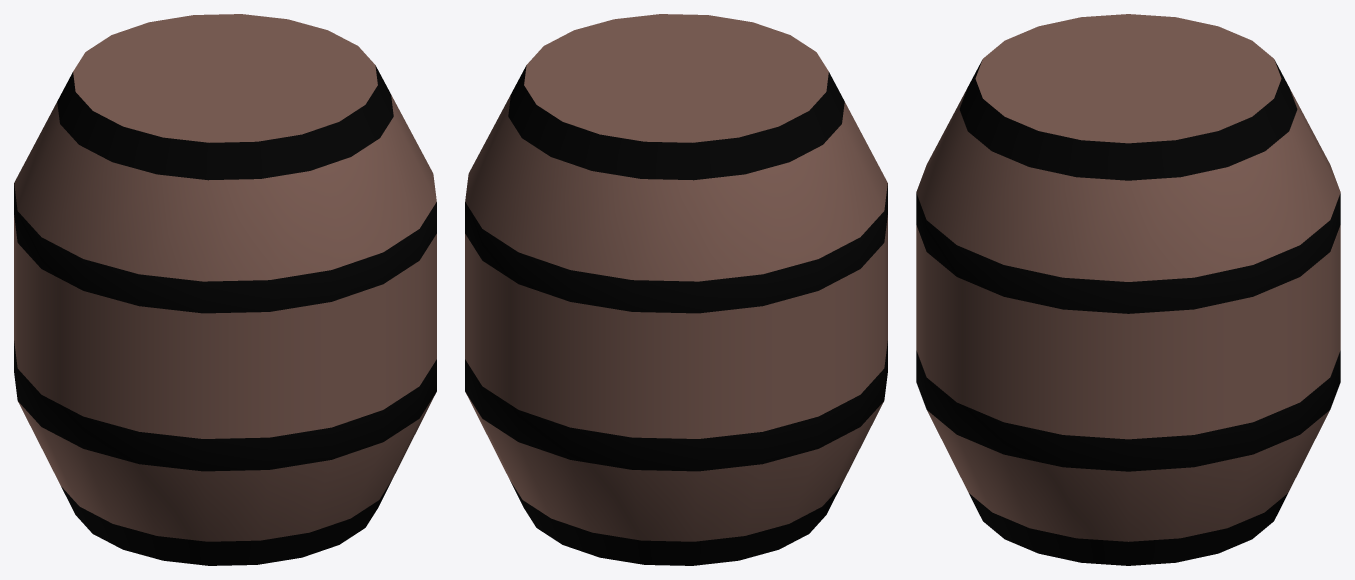
The model's file is taru.fbx.
The picture shows the model from 3 angles, left to right: view 1: azimuth 30°, elevation 25°; view 2: azimuth 150°, elevation 25°; view 3: azimuth 270°, elevation 25°; orthographic projection.
Parts seen in each view (by area): view 1: pCylinder1; view 2: pCylinder1; view 3: pCylinder1.
Boxes of the visible parts, x1,y1,x2,y2 form: pCylinder1: (14,14,436,565); pCylinder1: (465,14,887,565); pCylinder1: (916,14,1340,565).
Size of the model in its own units: 33.95 by 37.3 by 33.95.
